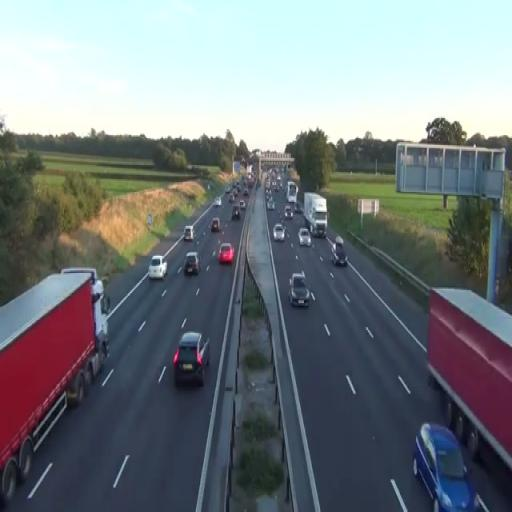Car: (412, 422, 476, 511), (173, 318, 211, 387), (288, 272, 310, 308), (330, 235, 348, 267), (148, 255, 168, 280), (184, 252, 200, 276), (218, 242, 234, 264), (298, 228, 312, 248), (273, 223, 285, 242), (210, 217, 220, 232), (185, 225, 194, 241), (284, 206, 294, 220)
Truck: (0, 266, 111, 506), (425, 286, 512, 477), (303, 192, 327, 238)
